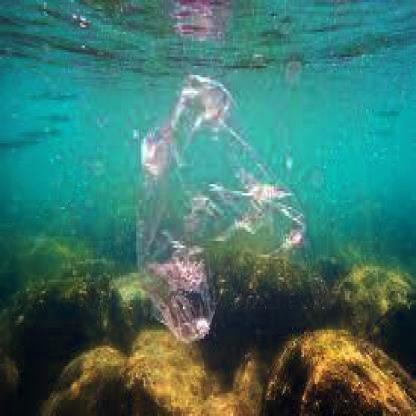pbag: (132, 70, 310, 350)
